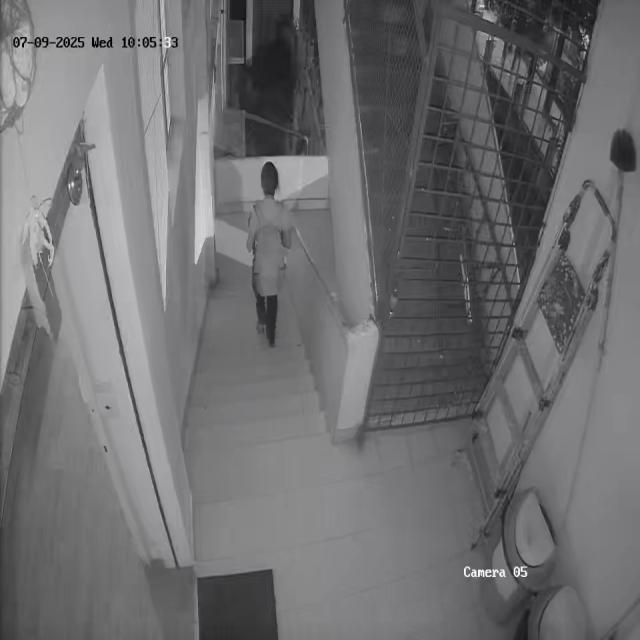person: (240, 160, 293, 347)
